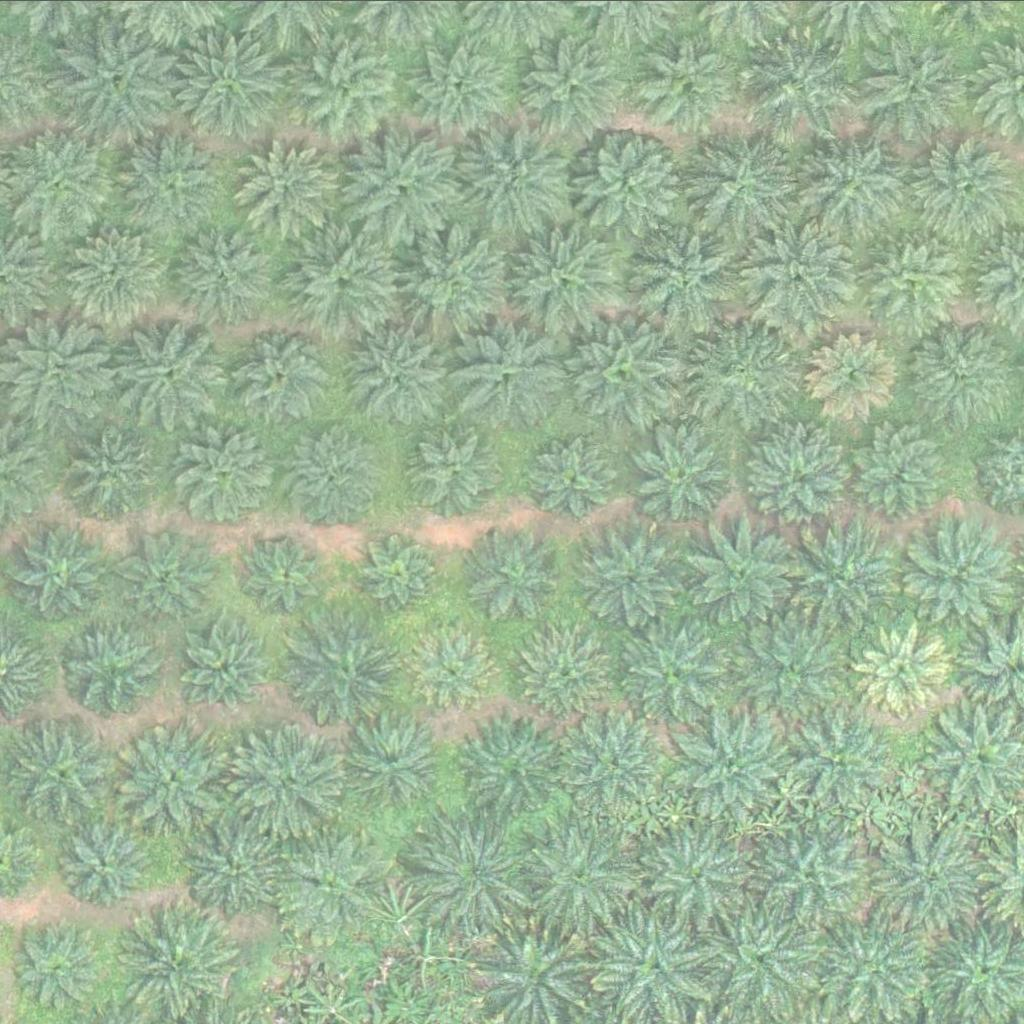Kelapa_Sawit: (117, 908, 231, 1021), (456, 711, 570, 824), (561, 706, 675, 819), (615, 614, 729, 727), (741, 608, 855, 721), (686, 516, 800, 629), (287, 33, 401, 146), (909, 519, 1023, 632), (63, 20, 176, 133), (175, 27, 288, 140), (115, 318, 228, 431), (227, 320, 340, 433), (2, 710, 115, 823), (704, 902, 817, 1015), (340, 319, 453, 432), (453, 313, 566, 426), (567, 313, 680, 426), (508, 223, 621, 336), (634, 221, 747, 334), (744, 218, 857, 331), (797, 126, 910, 239), (784, 518, 897, 631), (228, 727, 342, 839), (178, 810, 292, 922), (419, 813, 533, 925), (523, 817, 637, 929), (674, 704, 788, 816), (3, 123, 116, 235), (116, 125, 229, 237), (118, 718, 231, 830), (597, 907, 710, 1019), (293, 611, 406, 723), (689, 313, 802, 425), (286, 228, 399, 340), (402, 225, 515, 337), (346, 126, 459, 238), (458, 120, 571, 232), (570, 126, 683, 238), (683, 131, 796, 243), (513, 27, 626, 139), (743, 30, 856, 142), (856, 29, 969, 141), (880, 820, 993, 932), (235, 134, 336, 234), (67, 226, 168, 326), (173, 221, 274, 321), (63, 424, 164, 524), (10, 523, 111, 623), (59, 620, 160, 720), (56, 813, 157, 913), (643, 824, 744, 924), (756, 829, 857, 929), (343, 711, 444, 811), (459, 521, 560, 621), (584, 526, 685, 626), (409, 420, 510, 520), (632, 427, 733, 527), (636, 30, 737, 130), (911, 137, 1012, 237), (862, 226, 963, 326), (848, 419, 949, 519), (908, 317, 1009, 417), (179, 423, 279, 523), (283, 423, 383, 523), (115, 525, 215, 625), (280, 833, 380, 933), (748, 427, 848, 527), (414, 35, 514, 135), (788, 713, 888, 813), (12, 921, 100, 1009), (412, 626, 500, 714), (352, 525, 440, 613), (528, 435, 616, 523), (809, 331, 897, 419), (181, 625, 269, 712), (517, 627, 605, 714), (854, 625, 942, 712), (247, 538, 323, 613)
